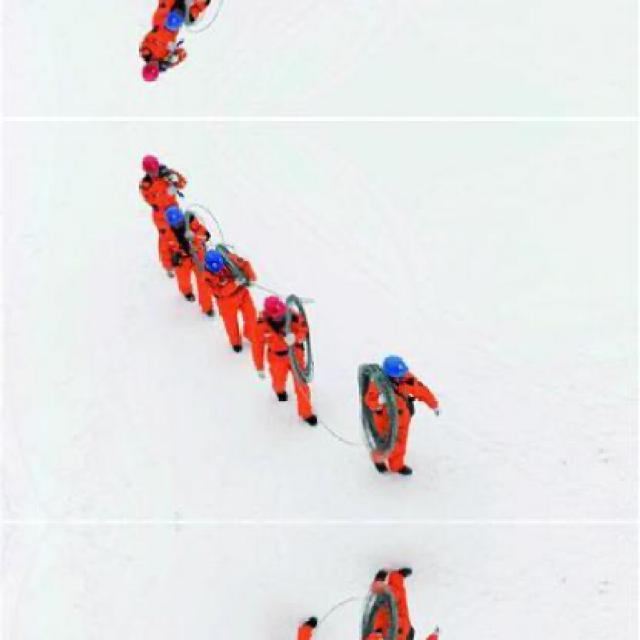helmet: (377, 348, 411, 389), (262, 289, 289, 329), (137, 152, 160, 177), (137, 57, 160, 81), (163, 205, 188, 226), (163, 8, 188, 29), (203, 249, 228, 269)
